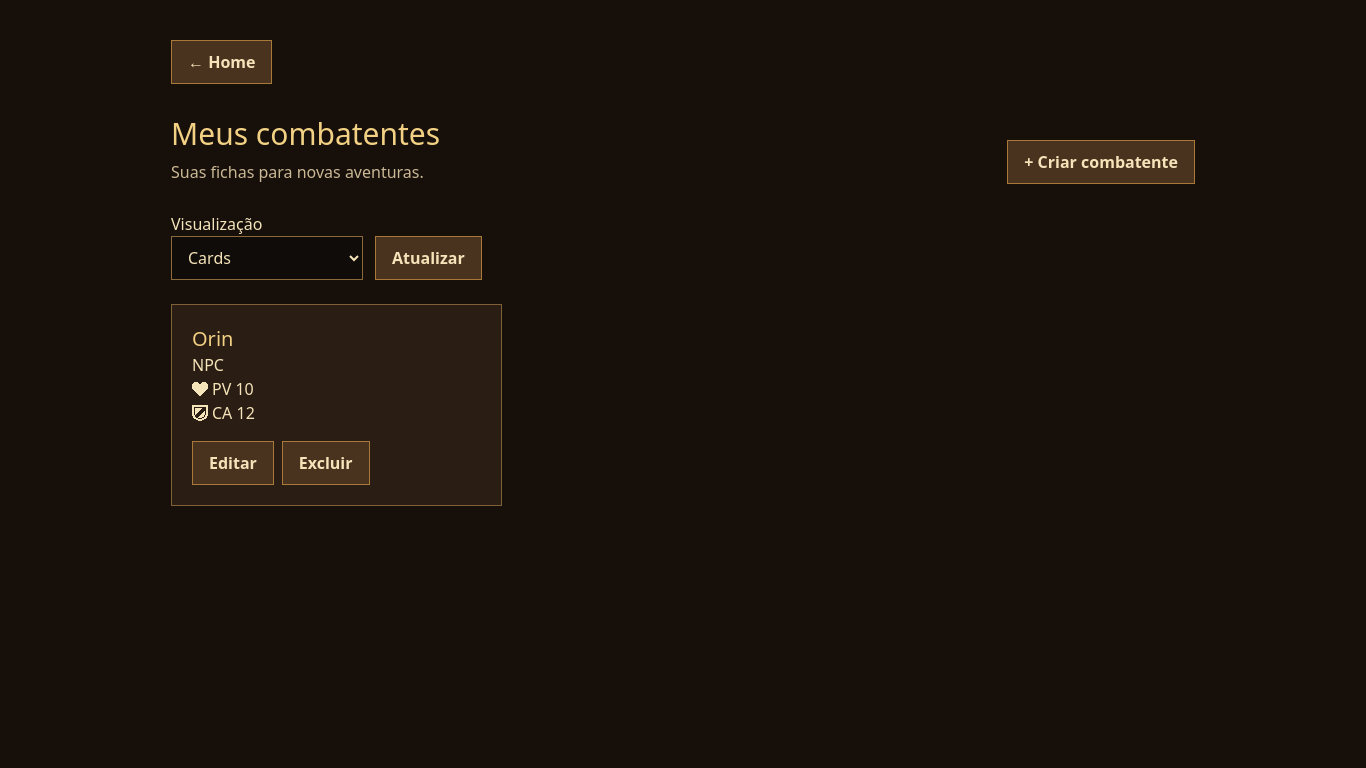
Scenario: keeps the edit form open when saving fails
The width and height of the screenshot is (1366, 768).
Expected: the heading "Orin" is shown, left=192, top=325, right=233, bottom=352
Click the button "Editar" at (233, 463), box left=192, top=441, right=274, bottom=485
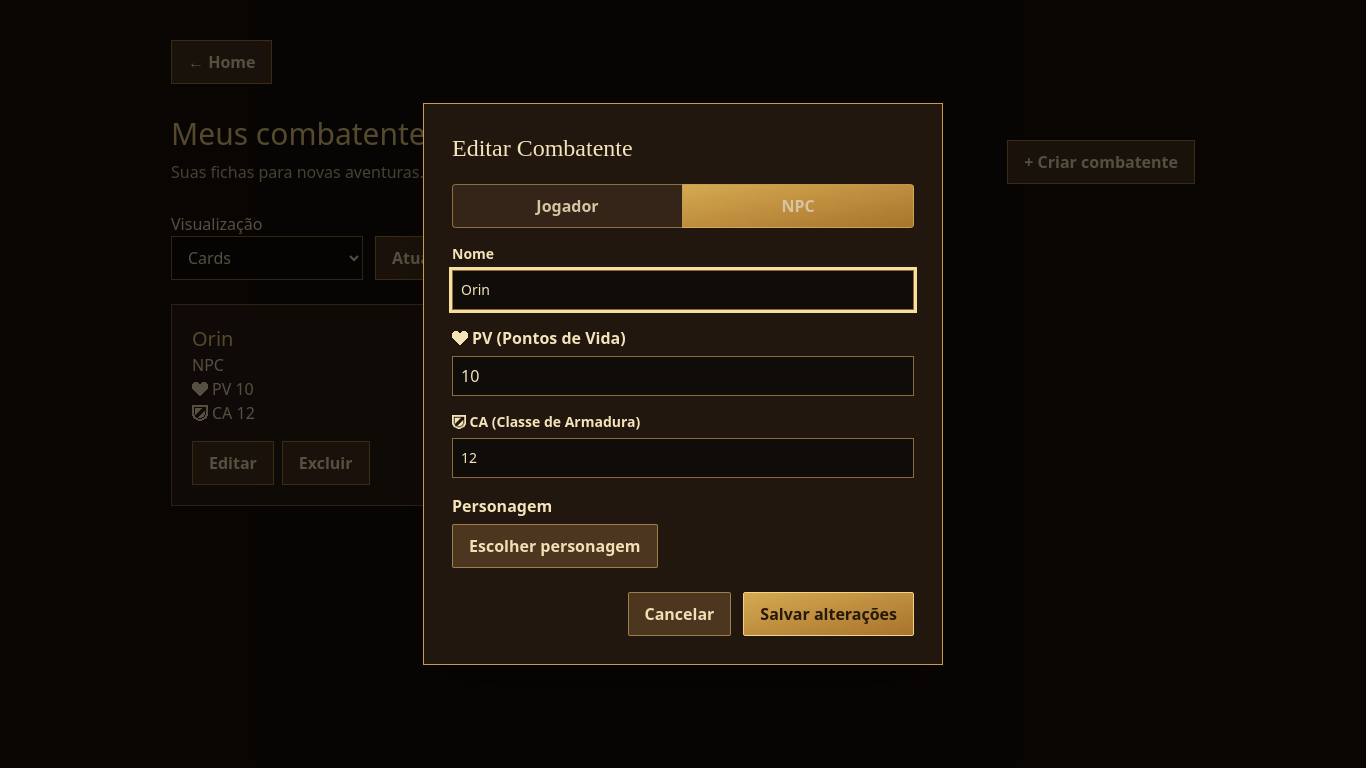
Replace the text in the field labelled "Nome" with "Orin alterado" at (683, 290), box left=452, top=270, right=914, bottom=310
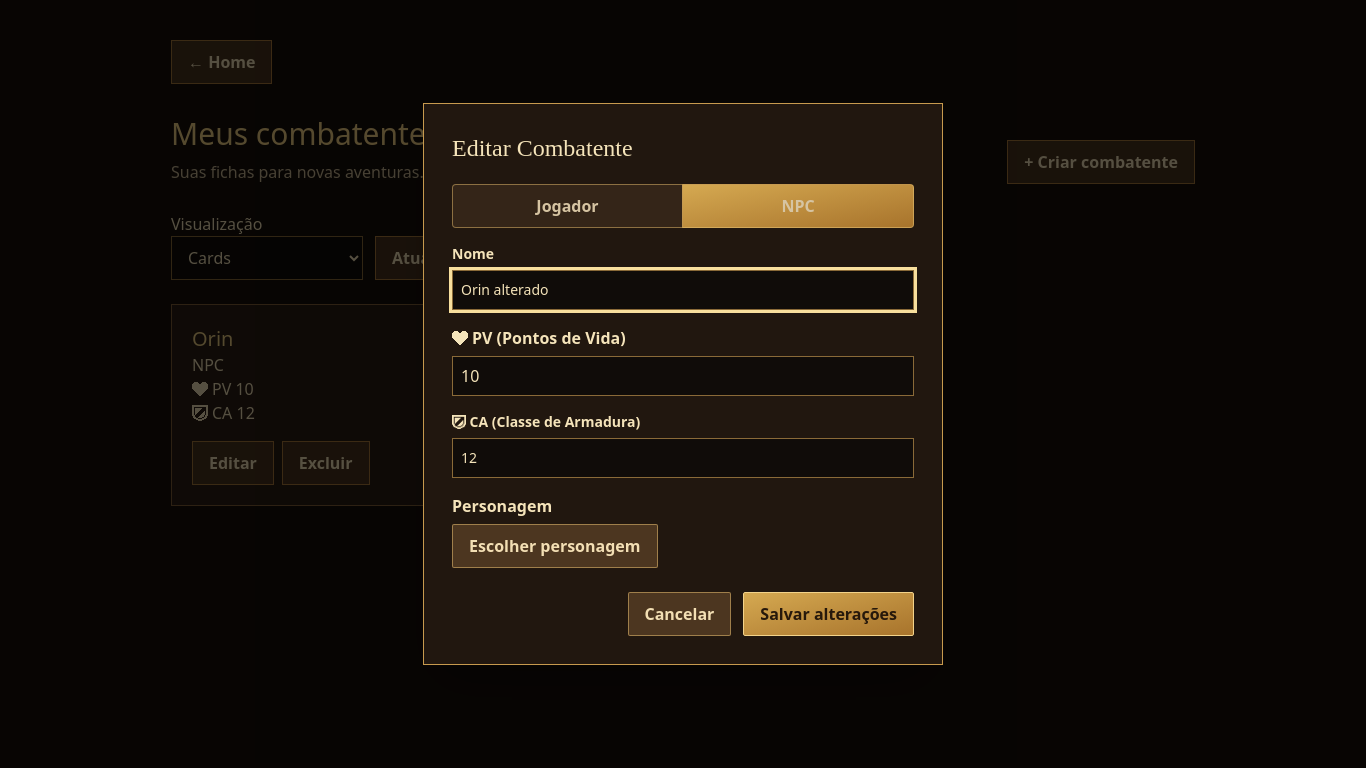
Click the button "Salvar alterações" at (829, 614), box left=743, top=592, right=914, bottom=636
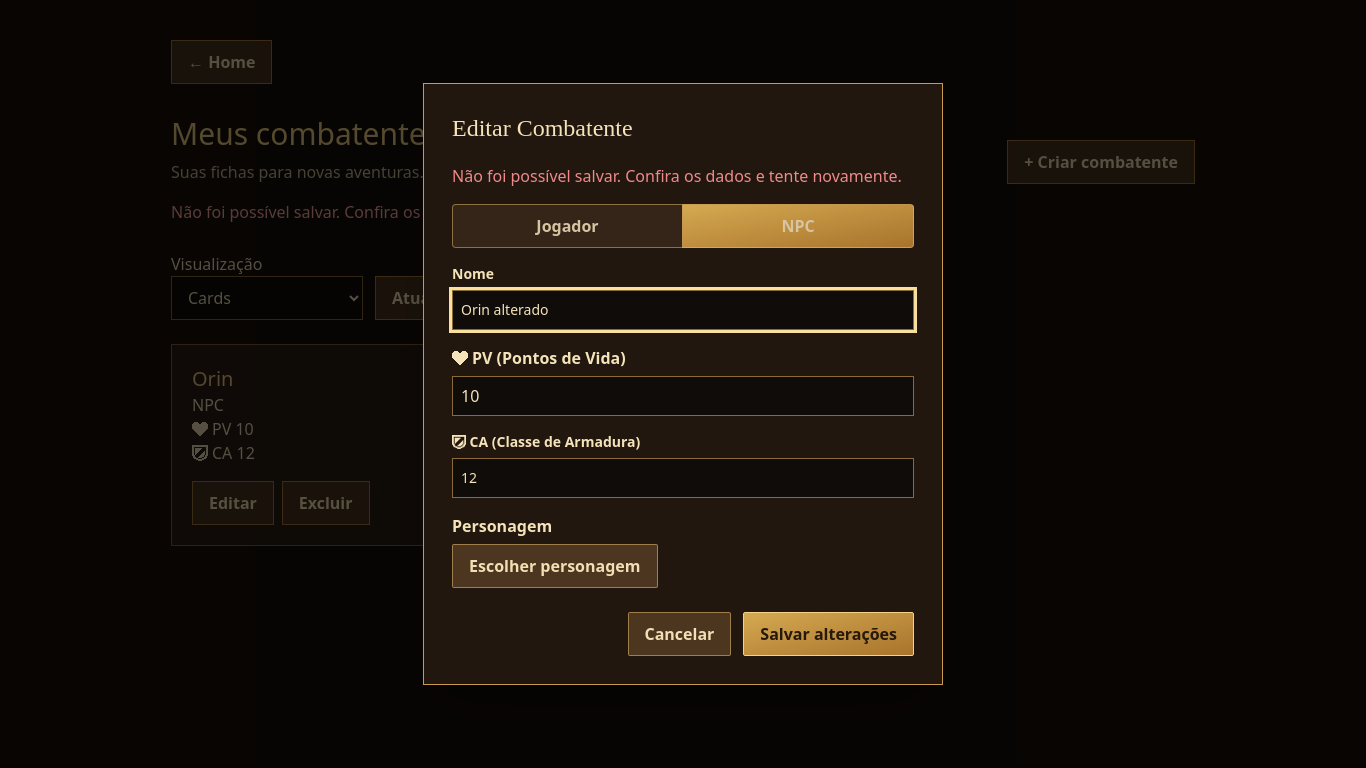
Expected: the message "Não foi possível salvar. Confira os dados e tente novamente." below "Editar Combatente" is shown, left=452, top=165, right=902, bottom=187
